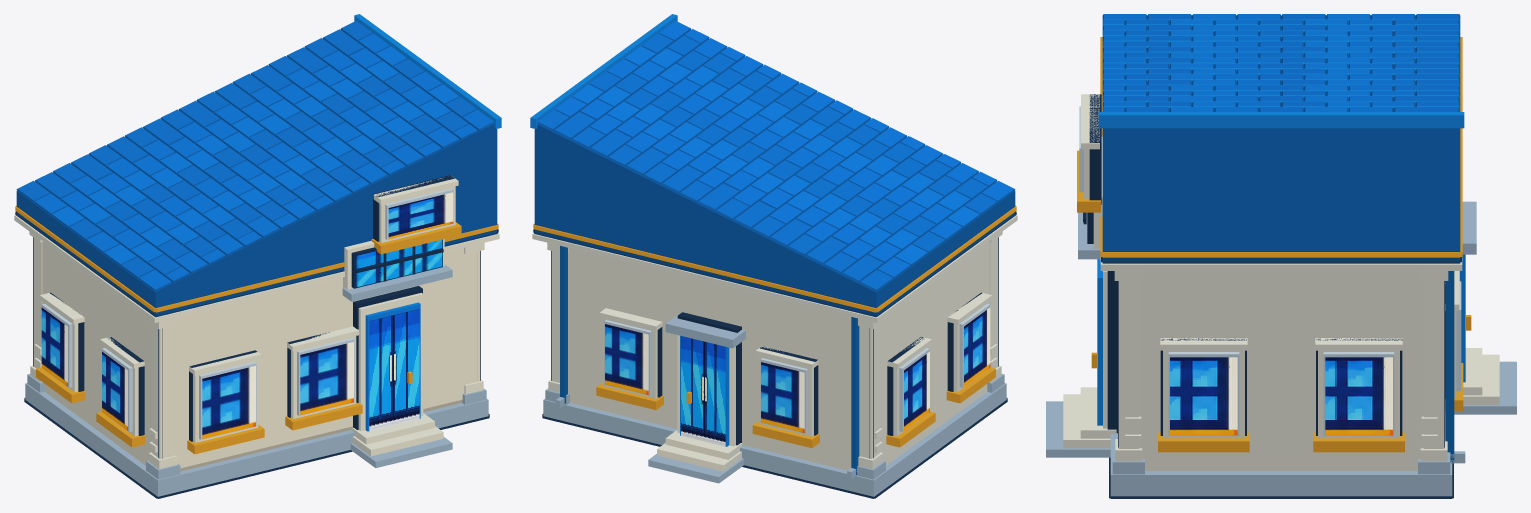
The picture shows the model from 3 angles, left to right: view 1: azimuth 30°, elevation 25°; view 2: azimuth 150°, elevation 25°; view 3: azimuth 270°, elevation 25°; orthographic projection. The views are drawn at different scales.
Parts seen in each view (by area): view 1: H07 单坡高窗屋; view 2: H07 单坡高窗屋; view 3: H07 单坡高窗屋.
Boxes of the visible parts, x1=… form: H07 单坡高窗屋: x1=14, y1=14, x2=501, y2=498; H07 单坡高窗屋: x1=530, y1=14, x2=1017, y2=498; H07 单坡高窗屋: x1=1046, y1=14, x2=1516, y2=498.
Bounding box in the file's own units: 6.86 × 5.7 × 6.26.
2 materials, 1 textured.
